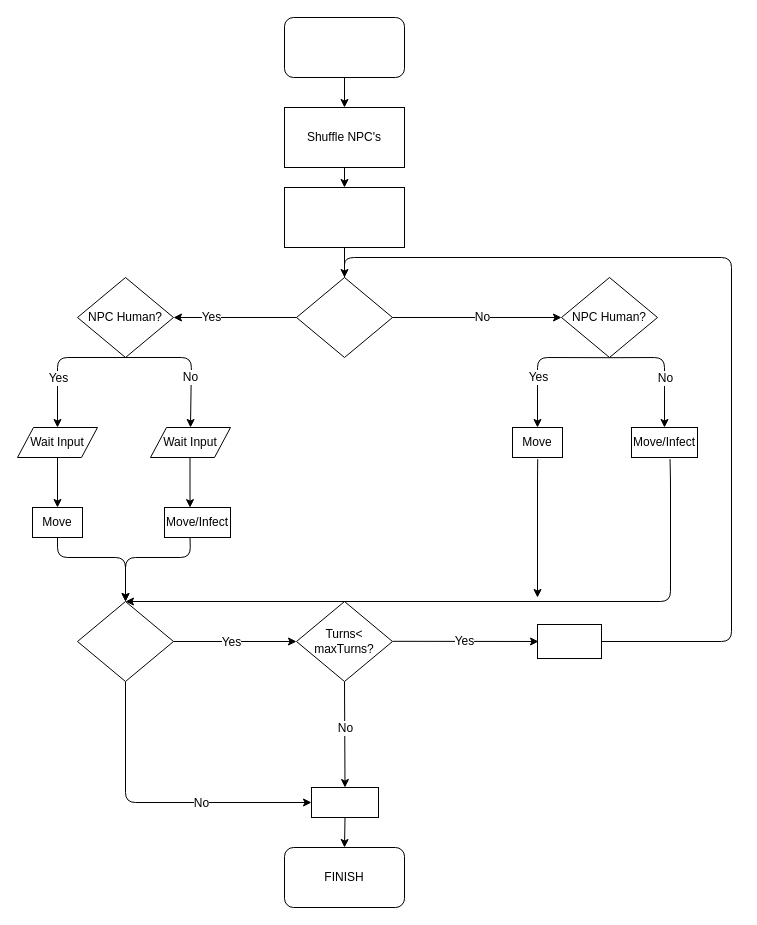
Image size: 757x925. Some labels were removed from this diagram. The box of each missing label's shape, as (x1, y1, x2, y2) in pixels:
EndGame: (310, 786, 378, 818)
Humans in board?: (76, 600, 174, 682)
Next NPC: (536, 624, 602, 658)
NPC Controllable?: (296, 276, 392, 358)
START: (284, 16, 404, 78)
Start picking NPC's: (284, 186, 404, 248)
